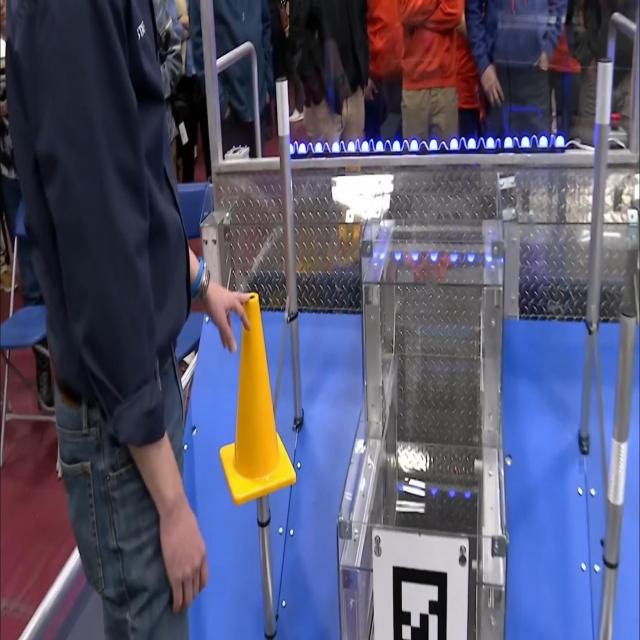frc_cone: (223, 268, 307, 506)
